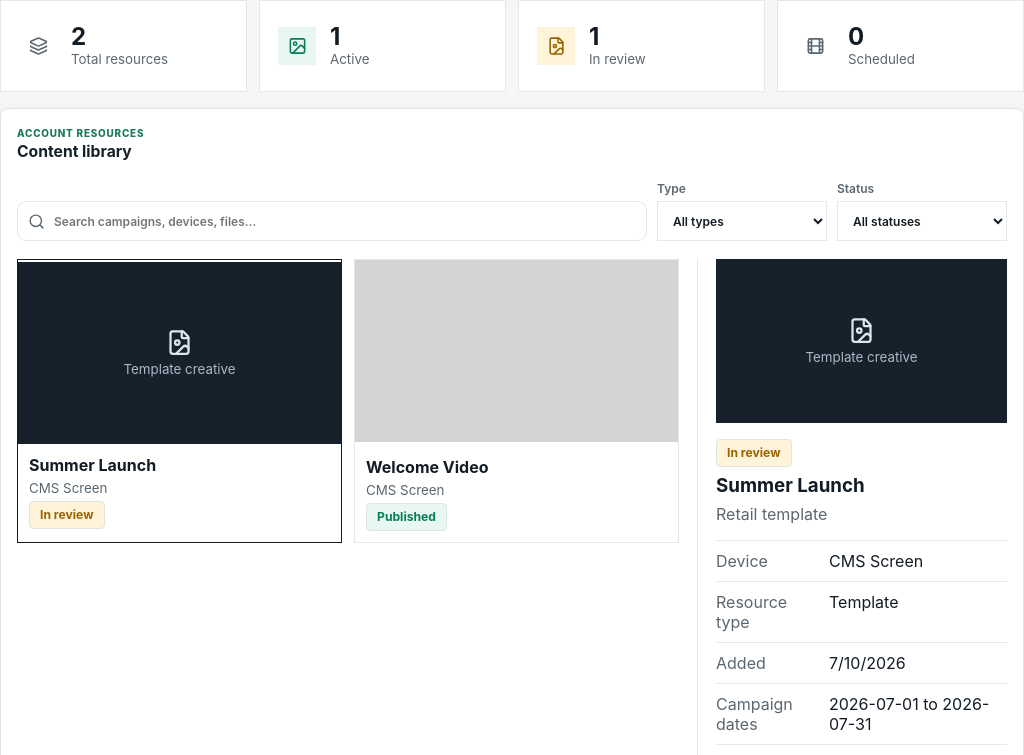
Test: content library visualizes account resources and filters by status
Expected: the text "Summer Launch" is shown, [29, 455, 156, 475]
Expected: the text "Welcome Video" is shown, [366, 457, 488, 477]
Select "In review" in the dropdown named "Filter by status" at (922, 221), box [837, 201, 1007, 241]
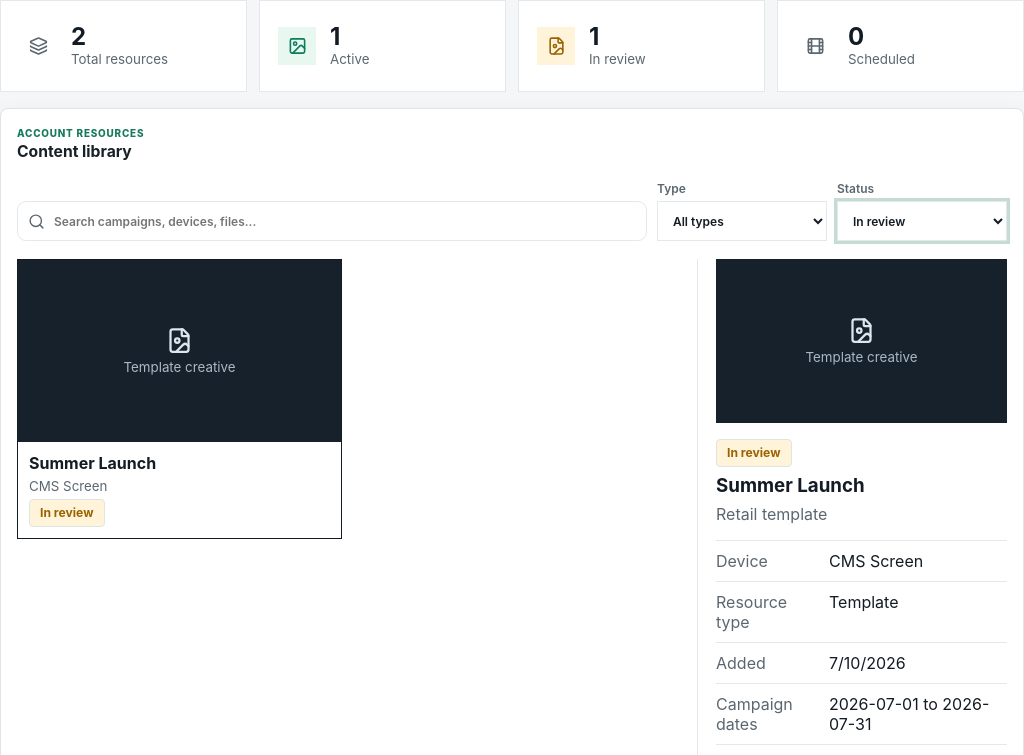
Expected: the text "Summer Launch" is shown, [29, 453, 156, 473]
Now the button "Welcome Video" is gone
